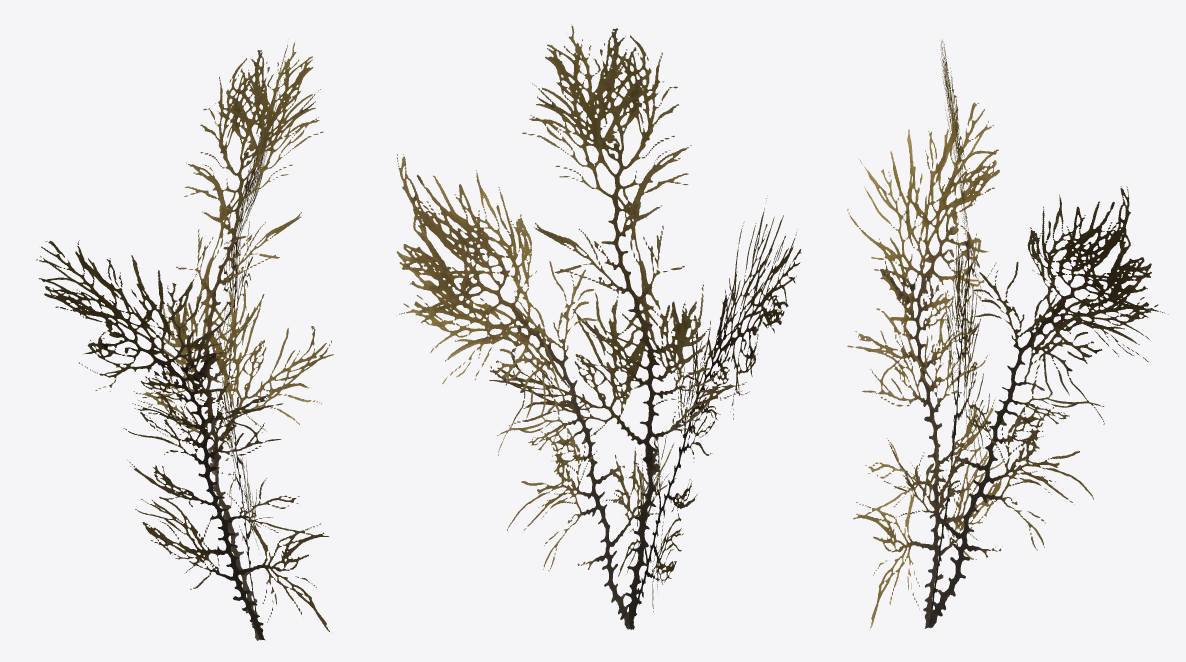
Rendered from seaweed_2_2.FBX.
3 renders of one model, left to right at view 1: azimuth 30°, elevation 25°; view 2: azimuth 150°, elevation 25°; view 3: azimuth 270°, elevation 25°, orthographic. The views are drawn at different scales.
Parts seen in each view (by area): view 1: seaweed_2_02; view 2: seaweed_2_02; view 3: seaweed_2_02.
Boxes of the visible parts, x1,y1,x2,y2 form: seaweed_2_02: (36, 41, 333, 640); seaweed_2_02: (396, 24, 801, 629); seaweed_2_02: (847, 39, 1168, 629).
Bounding box in the file's own units: 19.59 × 31.8 × 15.94.
1 material, 1 textured.
